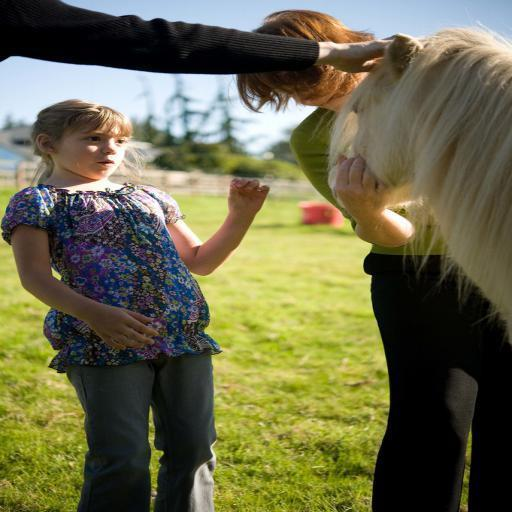horse: (310, 20, 512, 336)
